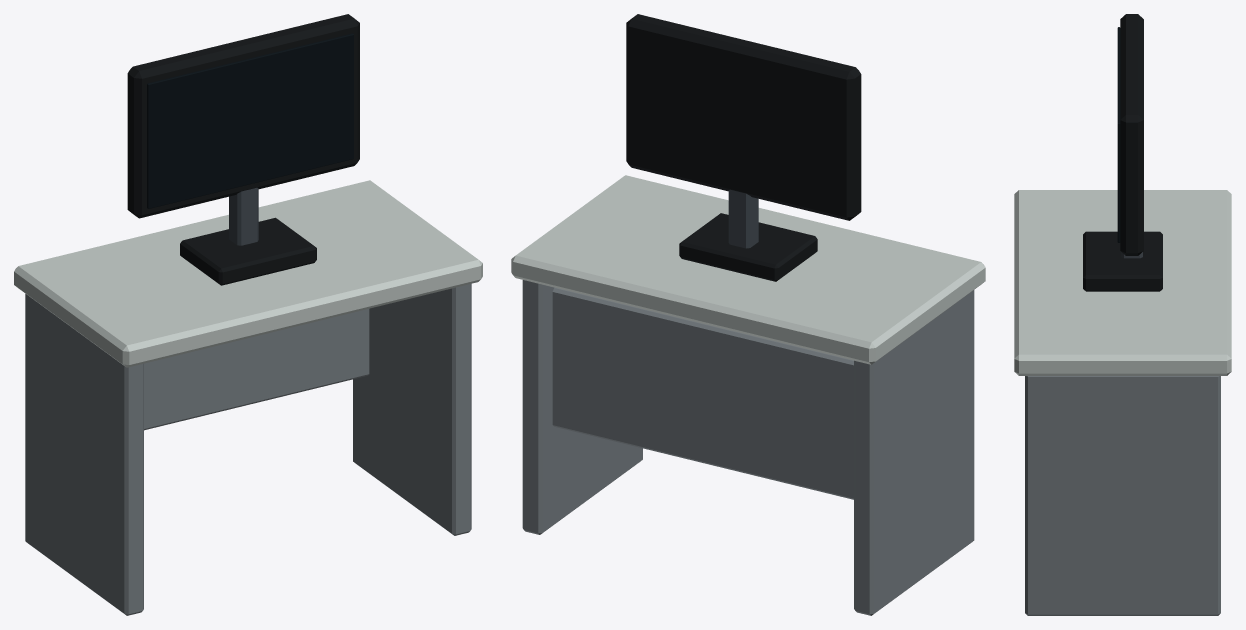
The model's file is SecurityDesk.fbx.
The picture shows the model from 3 angles, left to right: view 1: azimuth 30°, elevation 25°; view 2: azimuth 150°, elevation 25°; view 3: azimuth 270°, elevation 25°; orthographic projection. The views are drawn at different scales.
Visible parts, largest first — view 1: SecurityDesk; view 2: SecurityDesk; view 3: SecurityDesk.
Boxes of the visible parts, left/top/right/bottom form: SecurityDesk: left=14, top=14, right=482, bottom=615; SecurityDesk: left=511, top=14, right=985, bottom=615; SecurityDesk: left=1014, top=14, right=1231, bottom=615.
Size of the model in its own units: 110 by 144 by 60.
1 material, 1 textured.
